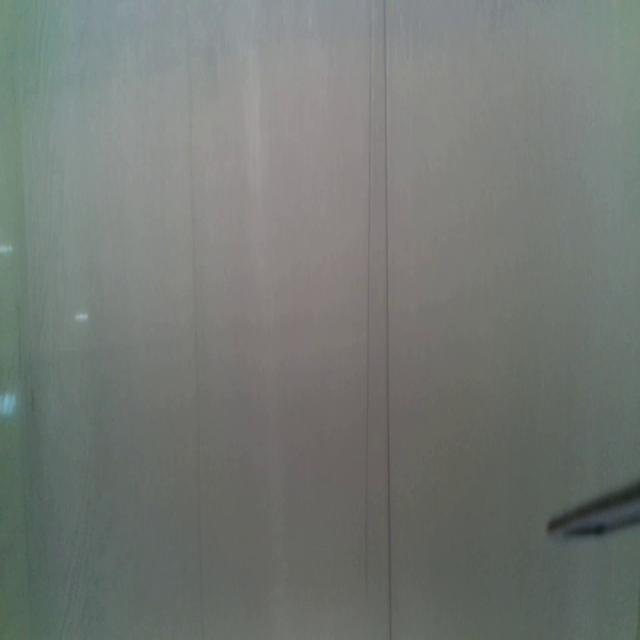crease: (185, 6, 204, 636), (383, 0, 393, 640), (364, 3, 374, 602)
